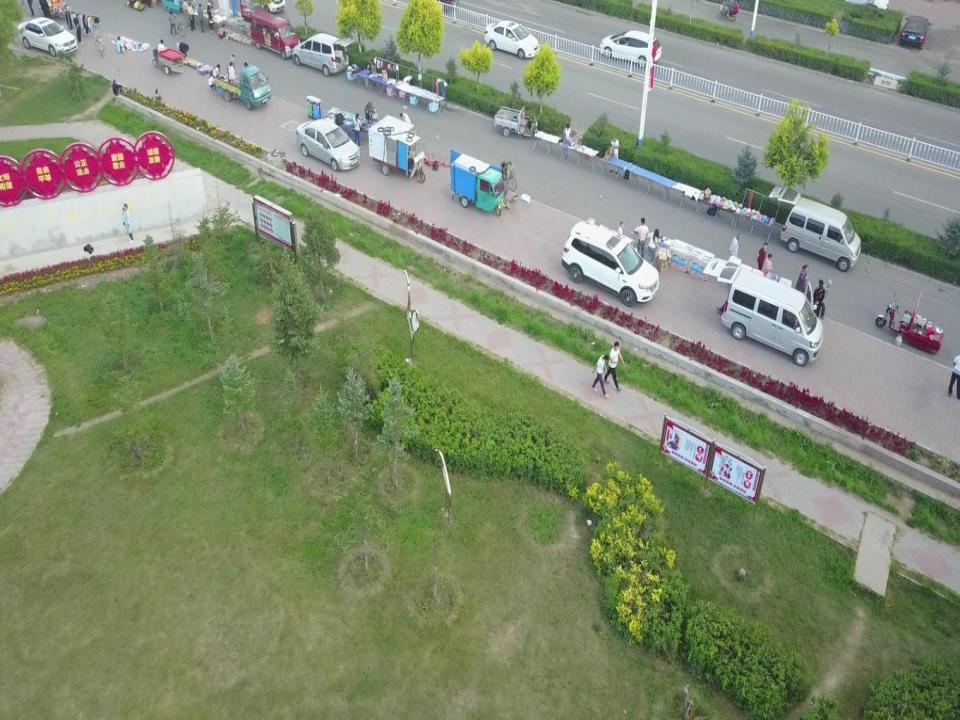car: (562, 220, 658, 306), (296, 120, 360, 172), (17, 15, 77, 57), (599, 30, 662, 68), (484, 20, 540, 60), (900, 14, 933, 50)
truck: (213, 64, 272, 110)
van: (702, 255, 823, 367), (769, 183, 862, 273), (241, 4, 300, 60), (292, 32, 355, 77)
